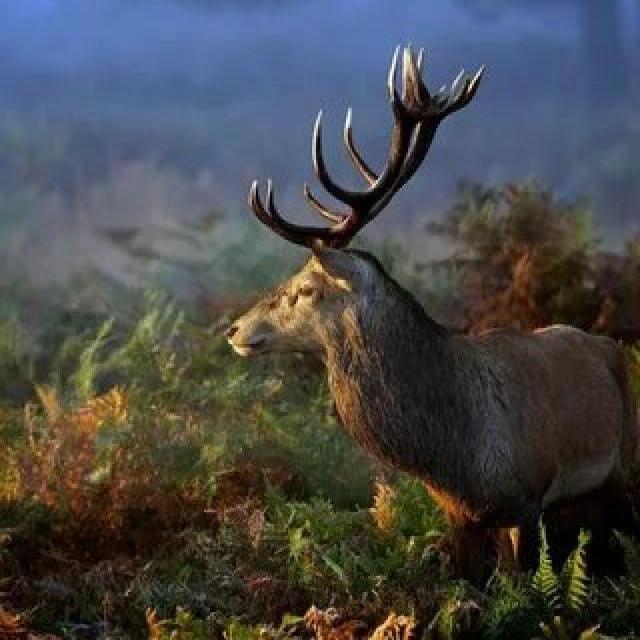deer: (206, 76, 640, 589)
